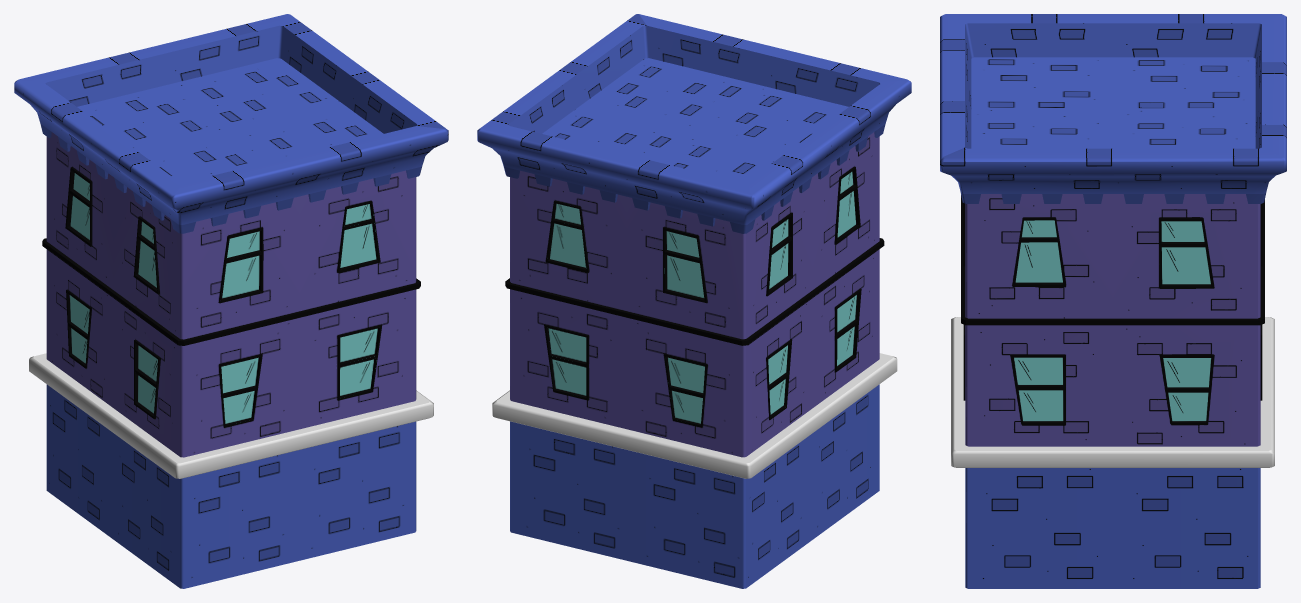
File: 2x2w_Building.fbx
The picture shows the model from 3 angles, left to right: view 1: azimuth 30°, elevation 25°; view 2: azimuth 150°, elevation 25°; view 3: azimuth 270°, elevation 25°; orthographic projection. The views are drawn at different scales.
Parts seen in each view (by area): view 1: 2x2, roof, ground floor, bar; view 2: 2x2, roof, ground floor, bar; view 3: 2x2, roof, ground floor, bar.
Part boxes in pixels (left/top/right/bottom): 2x2: left=42, top=132, right=420, bottom=457; roof: left=14, top=14, right=448, bottom=233; ground floor: left=46, top=384, right=416, bottom=588; bar: left=29, top=353, right=433, bottom=478; 2x2: left=505, top=132, right=884, bottom=457; roof: left=477, top=14, right=911, bottom=233; ground floor: left=510, top=384, right=879, bottom=588; bar: left=492, top=353, right=897, bottom=478; 2x2: left=961, top=194, right=1264, bottom=446; roof: left=940, top=14, right=1286, bottom=203; ground floor: left=965, top=468, right=1260, bottom=588; bar: left=951, top=317, right=1274, bottom=467.
Bounding box in the file's own units: 5.87 × 8.23 × 5.87.
